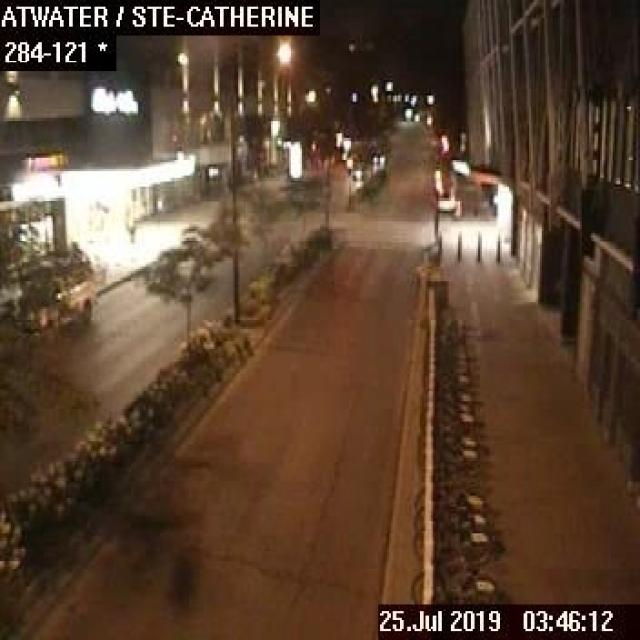vehicle: (24, 272, 94, 327), (370, 148, 384, 165)
